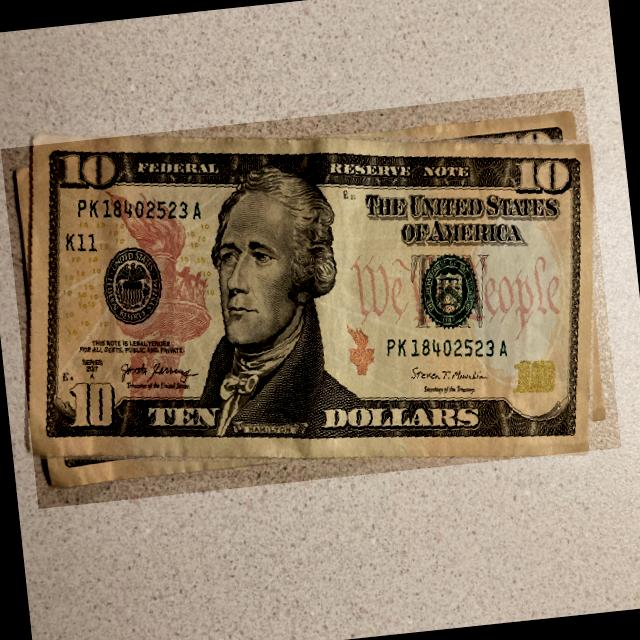ten: (1, 88, 621, 509)
